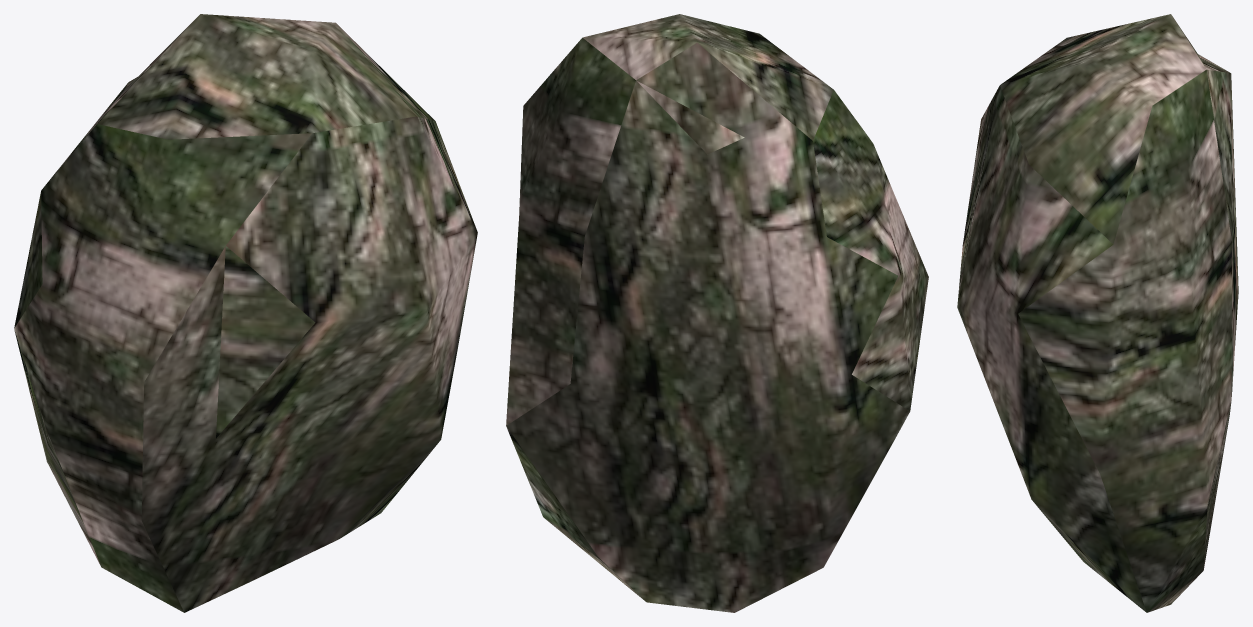
3 views of the same model, side by side, from view 1: azimuth 30°, elevation 25°; view 2: azimuth 150°, elevation 25°; view 3: azimuth 270°, elevation 25° (orthographic). The views are drawn at different scales.
Parts seen in each view (by area): view 1: model_Object32; view 2: model_Object32; view 3: model_Object32.
Part boxes in pixels (bbox=[...]): model_Object32: bbox=[14, 14, 477, 612]; model_Object32: bbox=[506, 14, 928, 612]; model_Object32: bbox=[957, 14, 1238, 612].
Size of the model in its own units: 1.61 by 2.21 by 0.9945.
1 material, 1 textured.
